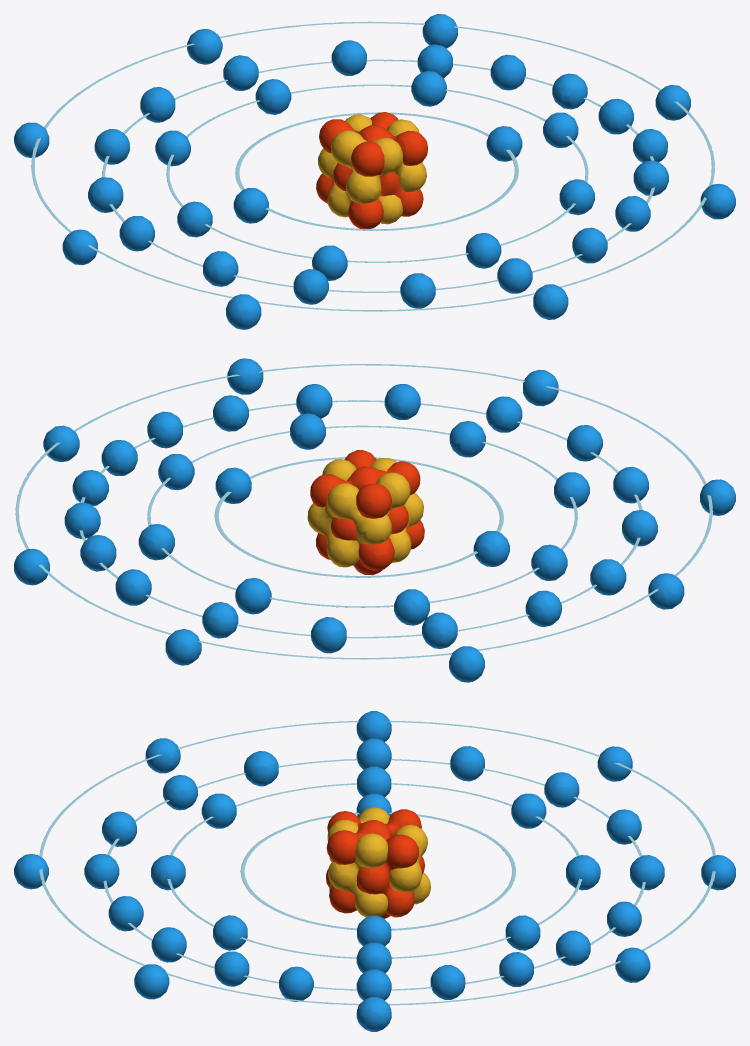
The model's file is Krypton.glb.
3 views of the same model, one above another, from view 1: azimuth 30°, elevation 25°; view 2: azimuth 150°, elevation 25°; view 3: azimuth 270°, elevation 25° (orthographic). The views are drawn at different scales.
Parts seen in each view (by area): view 1: MetaBola.036_12, amarillo.016_15, rojo.014_14, Cilindro.003_7, Cilindro.001_3, Cilindro_1, Cilindro.002_5; view 2: MetaBola.036_12, rojo.014_14, amarillo.016_15, Cilindro.003_7, Cilindro.001_3, Cilindro.002_5, Cilindro_1; view 3: MetaBola.036_12, amarillo.016_15, rojo.014_14, Cilindro.003_7, Cilindro.001_3, Cilindro.002_5, Cilindro_1.
Boxes of the visible parts, x1,y1,x2,y2 form: MetaBola.036_12: (14, 14, 735, 329); amarillo.016_15: (316, 112, 427, 228); rojo.014_14: (318, 114, 426, 224); Cilindro.003_7: (31, 21, 715, 311); Cilindro.001_3: (166, 84, 588, 262); Cilindro_1: (235, 112, 518, 230); Cilindro.002_5: (101, 59, 654, 292); MetaBola.036_12: (14, 358, 735, 682); rojo.014_14: (307, 458, 423, 567); amarillo.016_15: (310, 450, 424, 575); Cilindro.003_7: (15, 364, 713, 659); Cilindro.001_3: (147, 425, 577, 607); Cilindro.002_5: (79, 400, 642, 638); Cilindro_1: (214, 457, 503, 577); MetaBola.036_12: (14, 711, 735, 1031); amarillo.016_15: (326, 809, 424, 918); rojo.014_14: (327, 807, 430, 917); Cilindro.003_7: (39, 720, 715, 1005); Cilindro.001_3: (167, 783, 581, 958); Cilindro.002_5: (103, 759, 645, 990); Cilindro_1: (240, 812, 515, 930).
Size of the model in its own units: 45.94 by 7.13 by 46.69.
